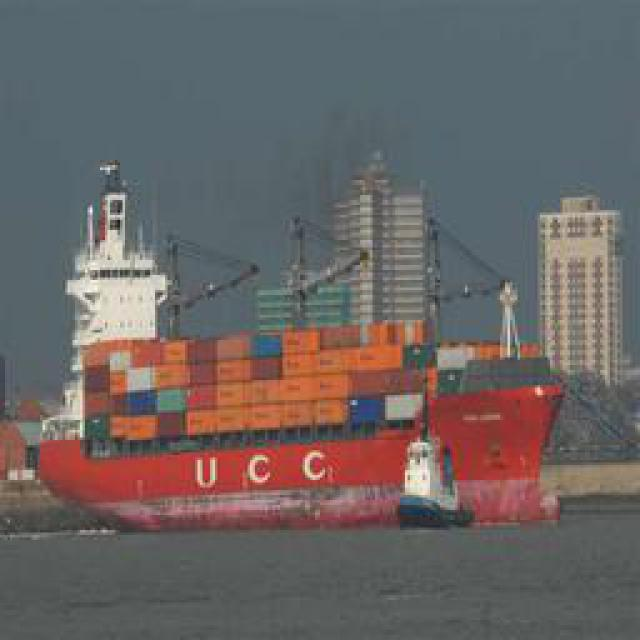Ship: (45, 145, 473, 523)
